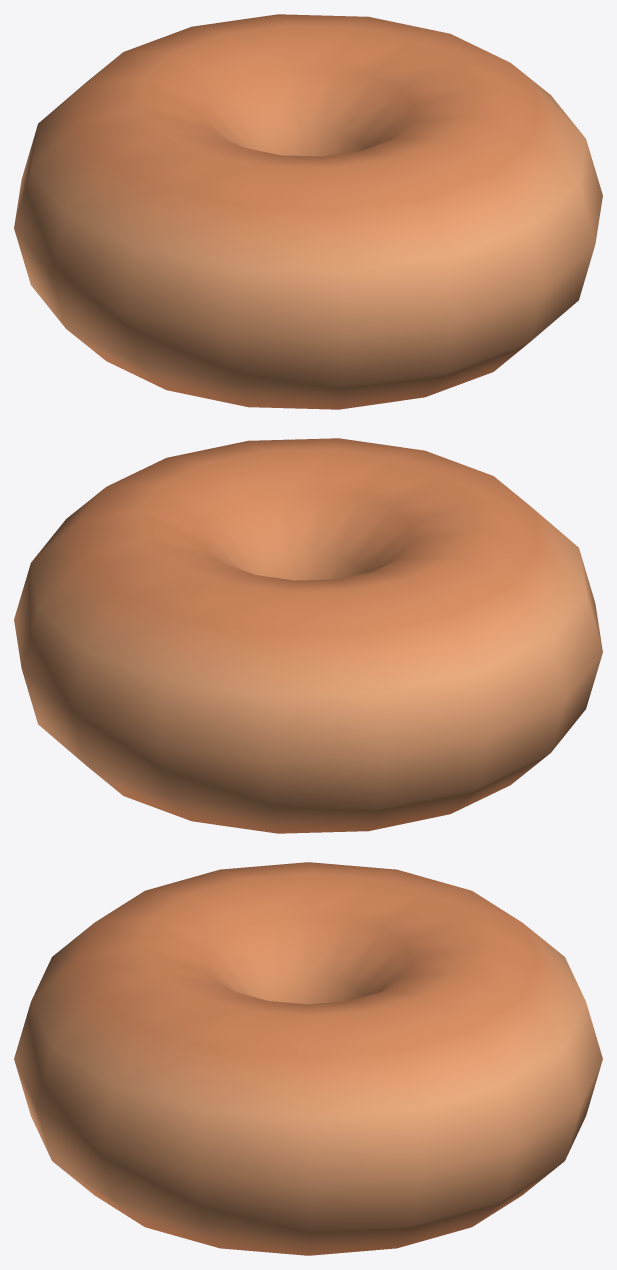
The model's file is donut.glb.
The picture shows the model from 3 angles, top to bottom: view 1: azimuth 30°, elevation 25°; view 2: azimuth 150°, elevation 25°; view 3: azimuth 270°, elevation 25°; orthographic projection.
Parts seen in each view (by area): view 1: donut; view 2: donut; view 3: donut.
Part boxes in pixels (<box>): donut: <box>14,14,602,409</box>; donut: <box>14,438,602,833</box>; donut: <box>14,862,602,1255</box>.
Size of the model in its own units: 0.4196 by 0.1798 by 0.4196.
Materials: 1 (1 with a texture image).
